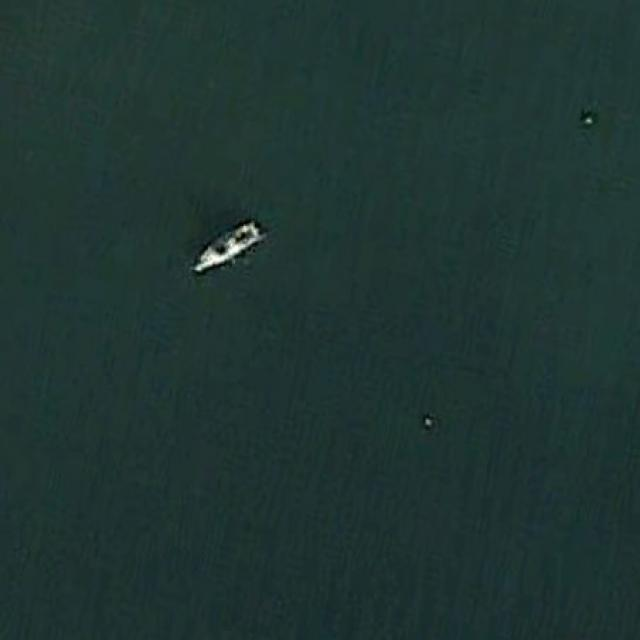boat: (190, 214, 268, 276)
